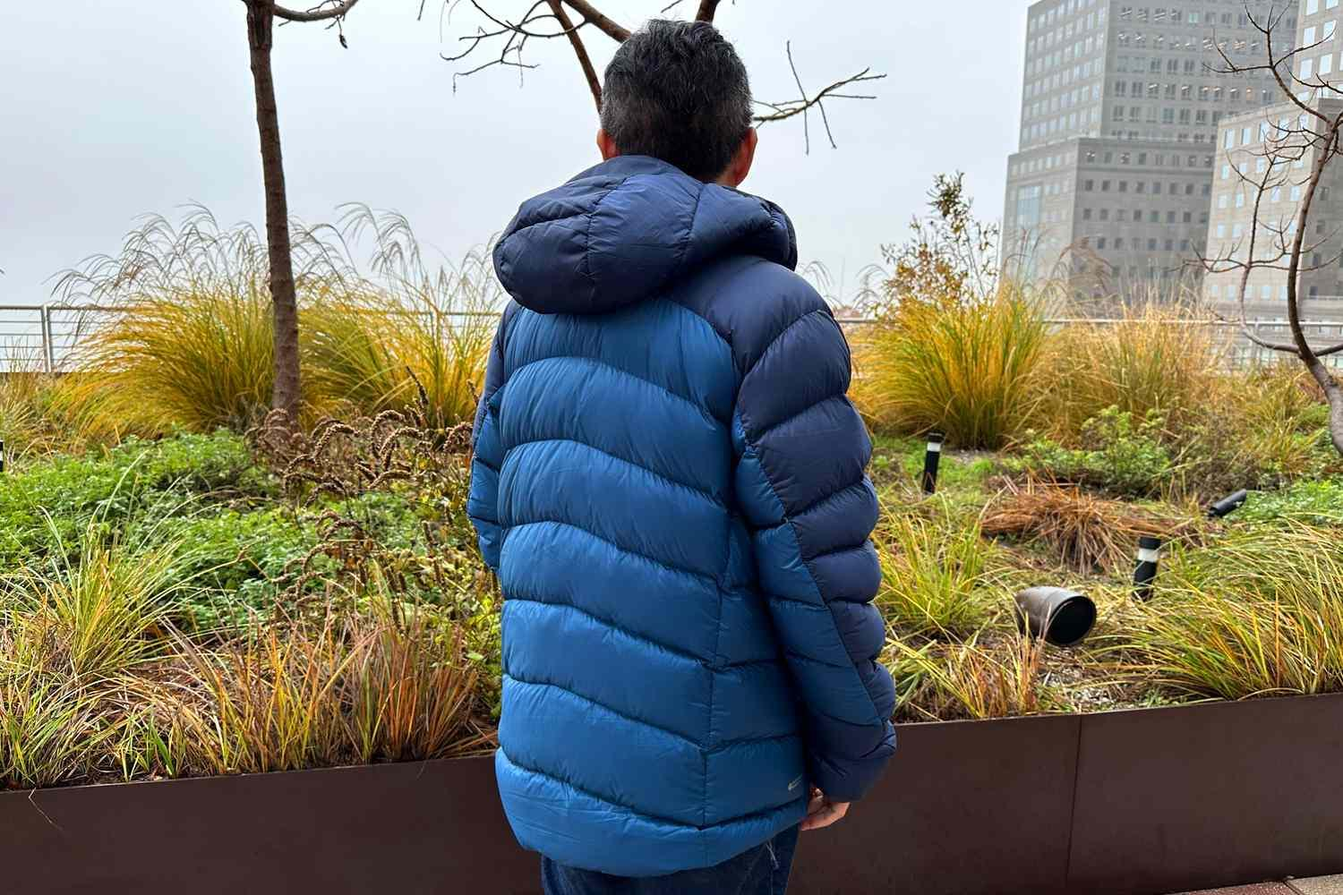coat: (459, 155, 899, 879)
